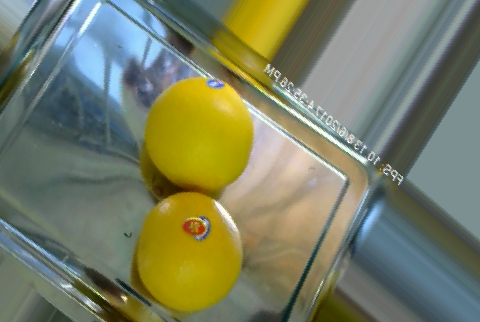Orange: (136, 191, 243, 313), (143, 76, 253, 193)
